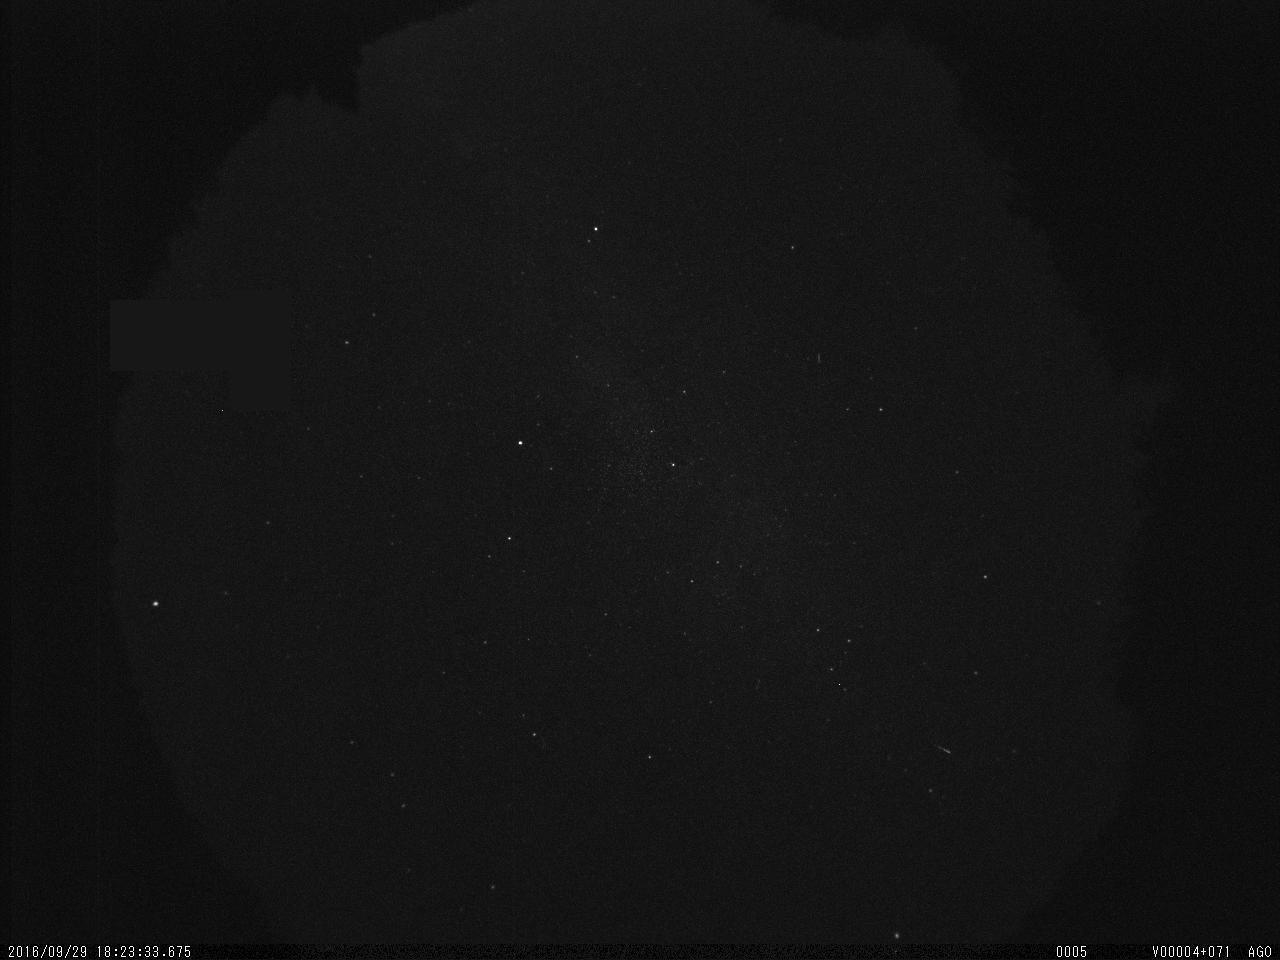meteor: (928, 736, 955, 761)
